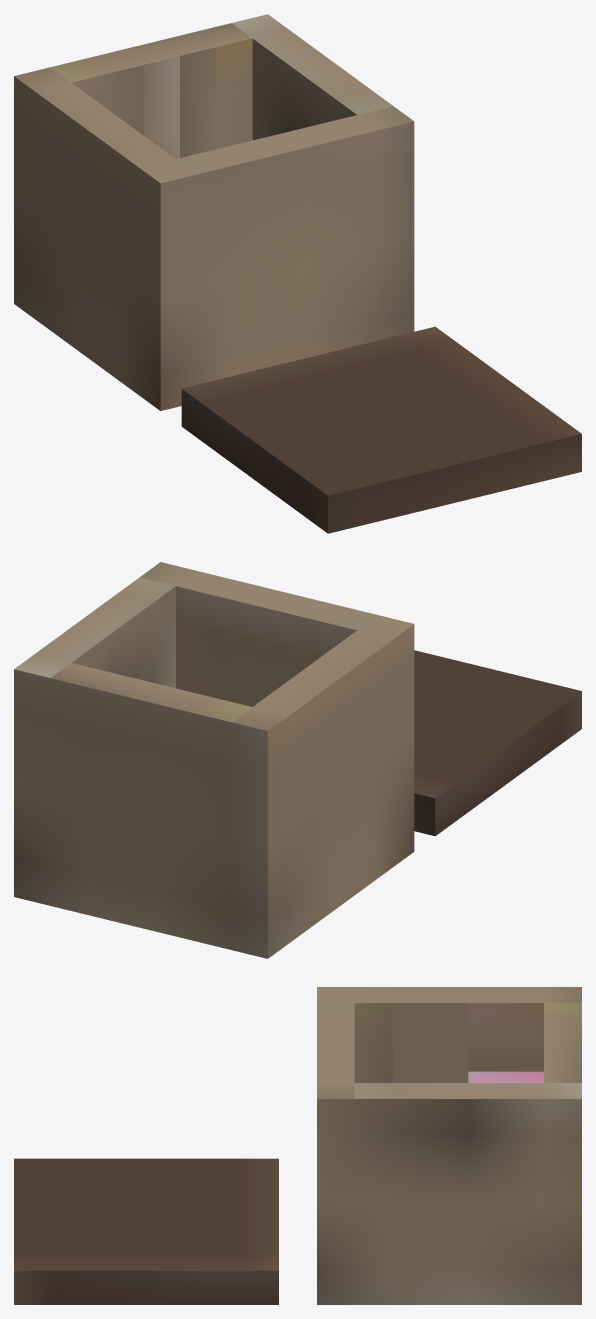
File: OfficeWarehouseStorageBoxOpenWithContent_02.fbx
3 views of the same model, one above another, from view 1: azimuth 30°, elevation 25°; view 2: azimuth 150°, elevation 25°; view 3: azimuth 270°, elevation 25° (orthographic). The views are drawn at different scales.
Visible parts, largest first — view 1: OfficeWarehouseStorageBoxOpenWithContent_02; view 2: OfficeWarehouseStorageBoxOpenWithContent_02; view 3: OfficeWarehouseStorageBoxOpenWithContent_02.
Boxes of the visible parts, left/top/right/bottom form: OfficeWarehouseStorageBoxOpenWithContent_02: left=14, top=14, right=581, bottom=533; OfficeWarehouseStorageBoxOpenWithContent_02: left=14, top=562, right=581, bottom=958; OfficeWarehouseStorageBoxOpenWithContent_02: left=14, top=987, right=581, bottom=1304.
Bounding box in the file's own units: 35 × 75 × 30.
1 material, 1 textured.
